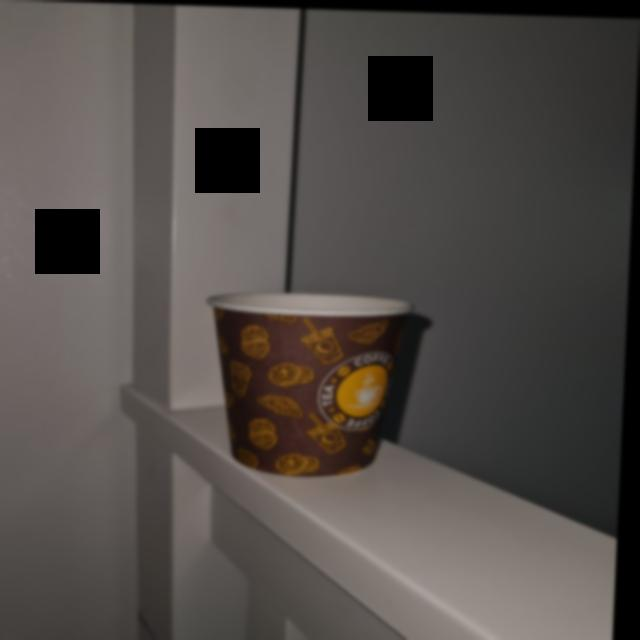cups: (201, 286, 424, 476)
